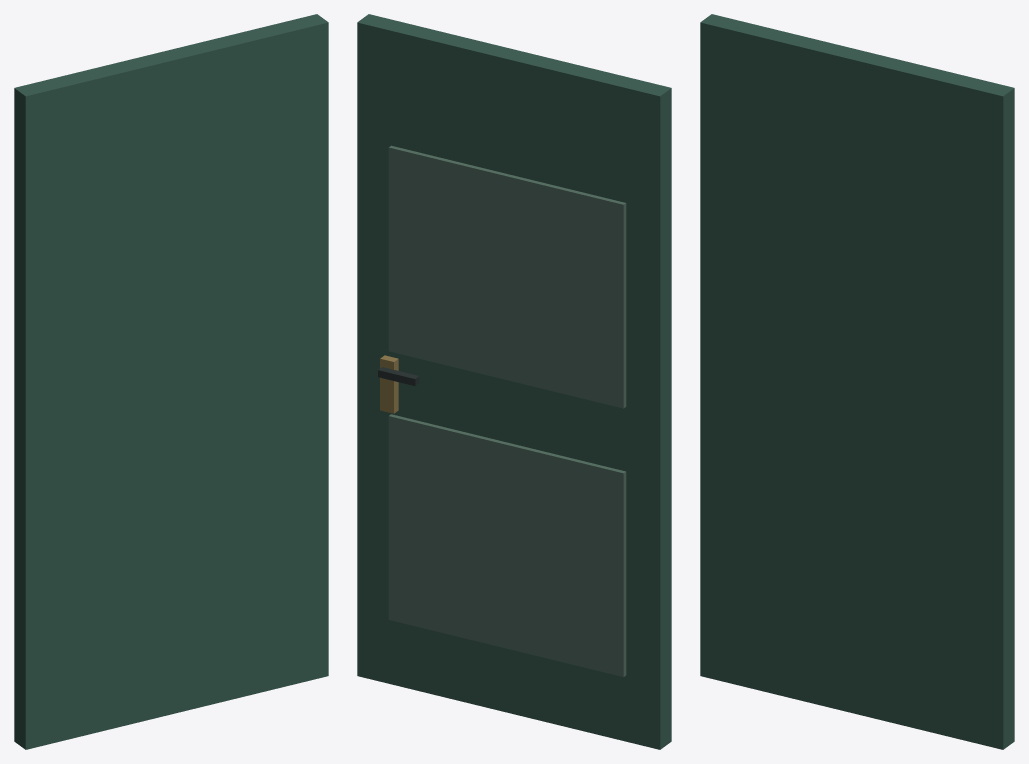
Rendered from metal_door.glb.
3 views of the same model, side by side, from view 1: azimuth 30°, elevation 25°; view 2: azimuth 150°, elevation 25°; view 3: azimuth 330°, elevation 25° (orthographic).
Parts seen in each view (by area): view 1: metal_door; view 2: metal_door; view 3: metal_door.
Part boxes in pixels (x1=…): metal_door: x1=14, y1=14, x2=328, y2=749; metal_door: x1=357, y1=14, x2=671, y2=749; metal_door: x1=700, y1=14, x2=1014, y2=749.
Size of the model in its own units: 0.98 by 2.02 by 0.1385.
